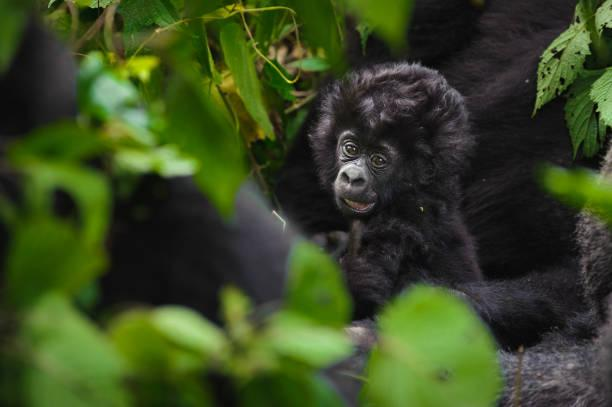goriile_montagne: (261, 41, 514, 327)
